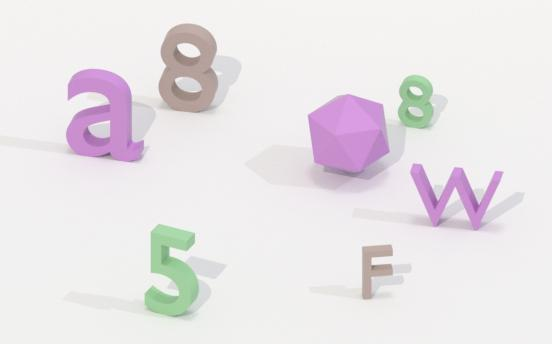5: (137, 224, 205, 318)
8: (154, 25, 225, 116), (395, 74, 439, 130)
F: (358, 239, 398, 302)
a: (56, 67, 151, 165)
dagiac: (304, 92, 394, 175)
w: (409, 161, 506, 234)
